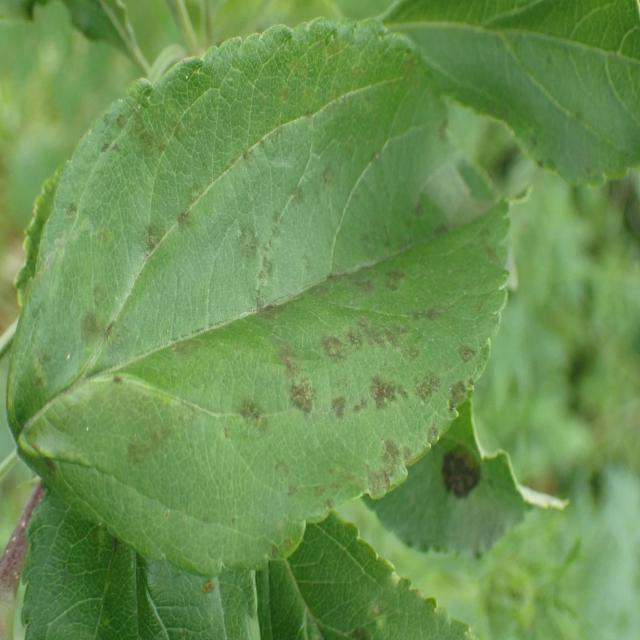scab: (28, 59, 524, 566)
